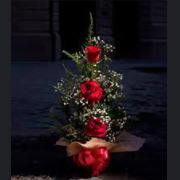RedRose: (82, 114, 109, 138), (81, 76, 103, 98), (85, 45, 104, 68)
